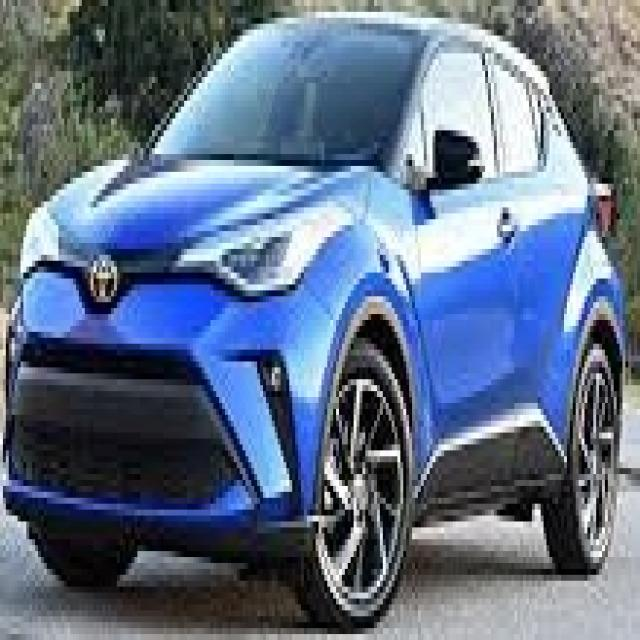blue: (7, 16, 629, 614)
